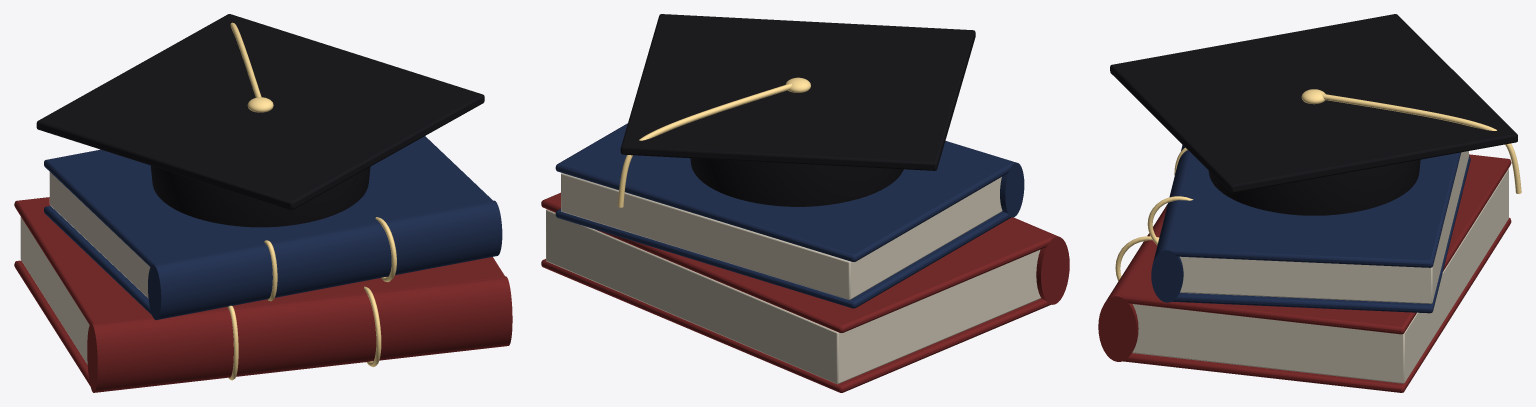
The model's file is edu.glb.
3 renders of one model, left to right at view 1: azimuth 30°, elevation 25°; view 2: azimuth 150°, elevation 25°; view 3: azimuth 270°, elevation 25°, orthographic. The views are drawn at different scales.
Visible parts, largest first — view 1: board, e0_spine, e1_top, e1_spine, e0_top, cap, e1_pages, e0_pages, e1_bot, e0_bot, cord, e0_band.001; view 2: board, e0_pages, e1_top, e1_pages, e0_top, cap, e0_bot, e1_bot, e0_spine, cord, e1_spine; view 3: board, e0_pages, e1_top, e1_pages, e0_top, cap, e0_bot, e1_bot, e0_spine, e1_spine, cord, e1_band.001.
Boxes of the visible parts, x1=… form: board: x1=36, y1=14, x2=484, y2=209; e0_spine: x1=87, y1=276, x2=512, y2=392; e1_top: x1=44, y1=136, x2=492, y2=266; e1_spine: x1=148, y1=200, x2=502, y2=319; e0_top: x1=14, y1=197, x2=504, y2=327; cap: x1=150, y1=165, x2=370, y2=227; e1_pages: x1=49, y1=172, x2=150, y2=298; e0_pages: x1=20, y1=216, x2=89, y2=364; e1_bot: x1=44, y1=205, x2=153, y2=315; e0_bot: x1=14, y1=260, x2=91, y2=387; cord: x1=230, y1=22, x2=261, y2=97; e0_band.001: x1=364, y1=286, x2=381, y2=366; board: x1=620, y1=14, x2=975, y2=170; e0_pages: x1=546, y1=209, x2=1040, y2=384; e1_top: x1=555, y1=123, x2=1011, y2=261; e1_pages: x1=561, y1=173, x2=1002, y2=299; e0_top: x1=541, y1=192, x2=1054, y2=332; cap: x1=690, y1=158, x2=903, y2=206; e0_bot: x1=541, y1=259, x2=1054, y2=392; e1_bot: x1=555, y1=208, x2=1011, y2=308; e0_spine: x1=1010, y1=217, x2=1069, y2=304; cord: x1=617, y1=83, x2=791, y2=207; e1_spine: x1=945, y1=141, x2=1024, y2=217; board: x1=1110, y1=14, x2=1517, y2=193; e0_pages: x1=1132, y1=169, x2=1508, y2=383; e1_top: x1=1168, y1=152, x2=1461, y2=267; e1_pages: x1=1180, y1=151, x2=1468, y2=303; e0_top: x1=1119, y1=154, x2=1511, y2=334; cap: x1=1208, y1=159, x2=1420, y2=215; e0_bot: x1=1119, y1=217, x2=1511, y2=392; e1_bot: x1=1168, y1=156, x2=1470, y2=313; e0_spine: x1=1098, y1=204, x2=1167, y2=361; e1_spine: x1=1151, y1=145, x2=1191, y2=302; cord: x1=1321, y1=94, x2=1521, y2=193; e1_band.001: x1=1147, y1=196, x2=1193, y2=245.
Bounding box in the file's own units: 1.33 × 0.6215 × 1.17.
